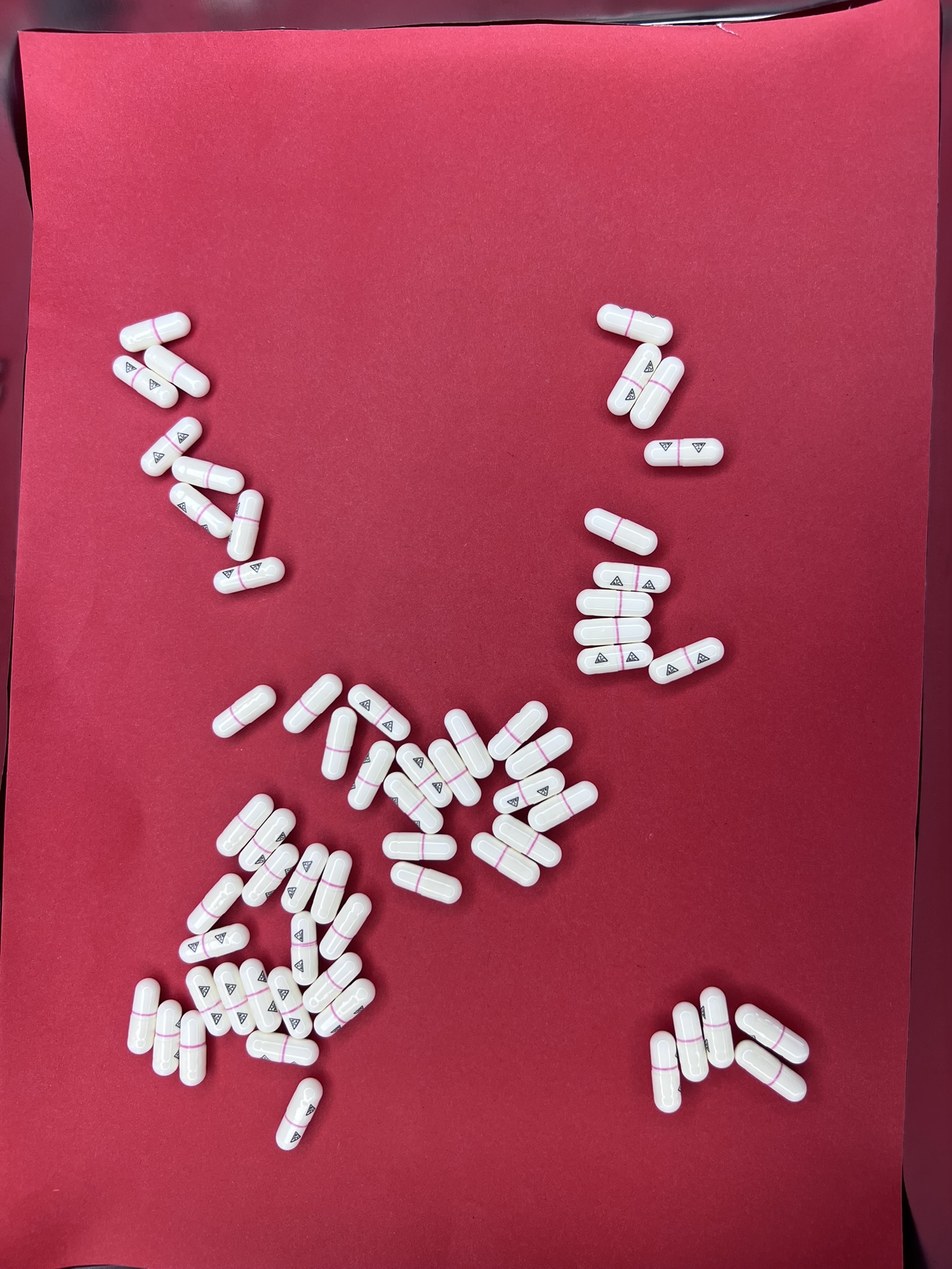Capsule: (731, 1039, 809, 1104), (734, 1003, 811, 1067), (138, 414, 204, 477), (312, 976, 378, 1039), (215, 791, 277, 858), (607, 343, 663, 417), (470, 830, 541, 888), (383, 769, 446, 834), (524, 780, 598, 835), (630, 355, 685, 429), (243, 842, 301, 911), (491, 814, 564, 868), (301, 951, 362, 1015), (237, 808, 297, 873), (444, 710, 498, 782), (488, 701, 553, 760), (185, 872, 244, 937), (170, 482, 235, 541), (143, 344, 210, 400), (428, 737, 483, 805), (349, 684, 413, 742), (493, 768, 570, 816), (648, 636, 724, 684), (113, 354, 178, 410), (504, 729, 573, 781), (212, 684, 277, 739), (282, 675, 343, 733), (585, 507, 657, 556), (321, 893, 372, 962), (276, 1077, 322, 1150), (596, 303, 672, 347), (238, 958, 281, 1035), (281, 843, 327, 914), (349, 740, 395, 811), (266, 968, 312, 1039), (391, 861, 465, 904), (185, 966, 230, 1036), (312, 850, 353, 925), (180, 921, 249, 965), (213, 961, 255, 1033), (172, 454, 243, 496), (672, 1001, 708, 1082), (120, 312, 191, 353), (396, 743, 446, 800), (247, 1031, 319, 1070), (700, 987, 734, 1069), (322, 707, 359, 782), (127, 977, 161, 1055), (227, 489, 264, 560), (215, 557, 286, 594), (649, 1030, 680, 1113), (594, 561, 673, 592), (644, 437, 724, 467), (577, 588, 654, 619), (578, 641, 648, 675), (383, 832, 458, 863), (153, 1001, 183, 1078), (574, 617, 648, 647), (178, 1010, 207, 1086), (290, 912, 319, 985)
